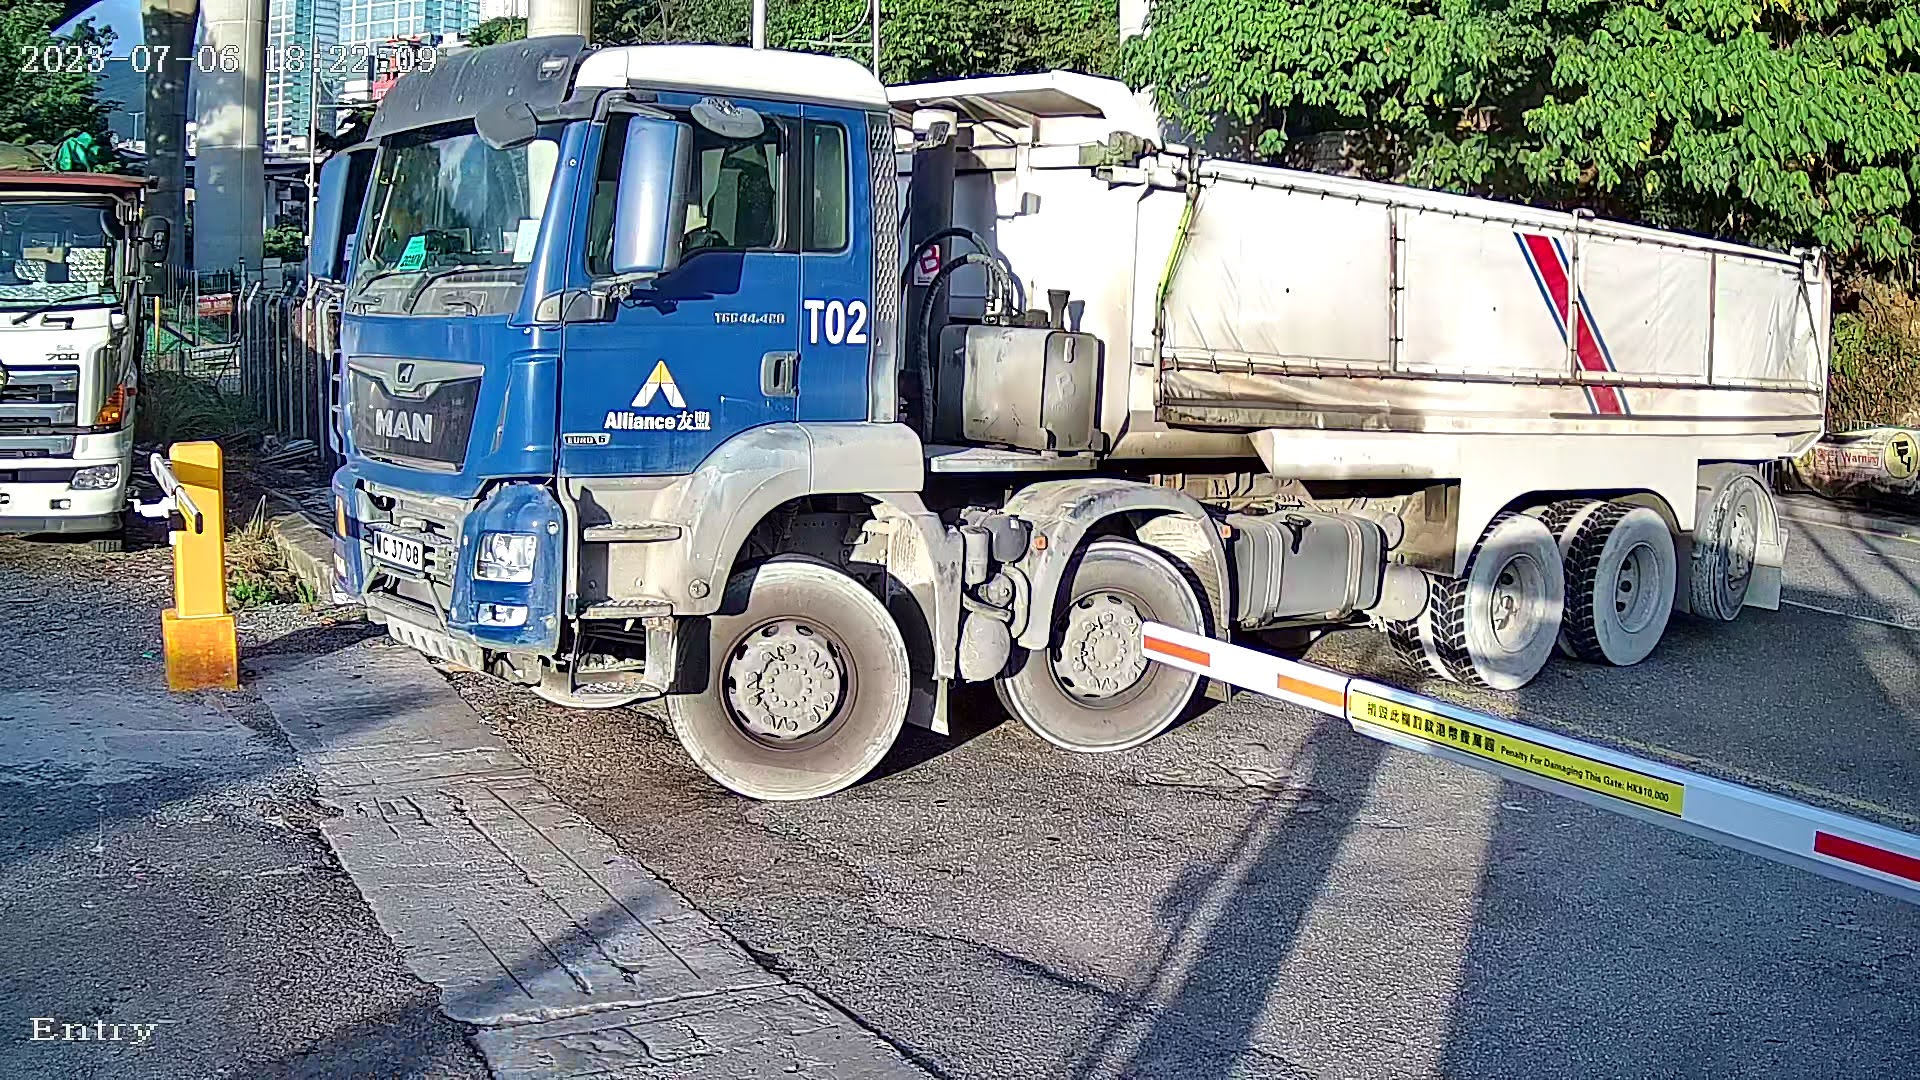truck: (258, 1, 1874, 884)
